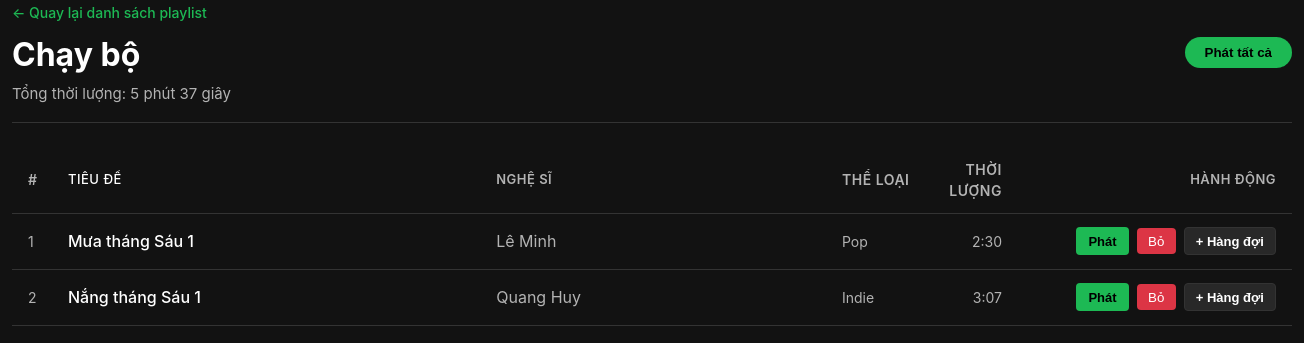
Test: PlaylistDetailPage component › bấm Bỏ để xóa bài hát ra khỏi playlist
Click the button "Bỏ" in the row of "2:30" at (1156, 241), box [1137,228,1176,254]
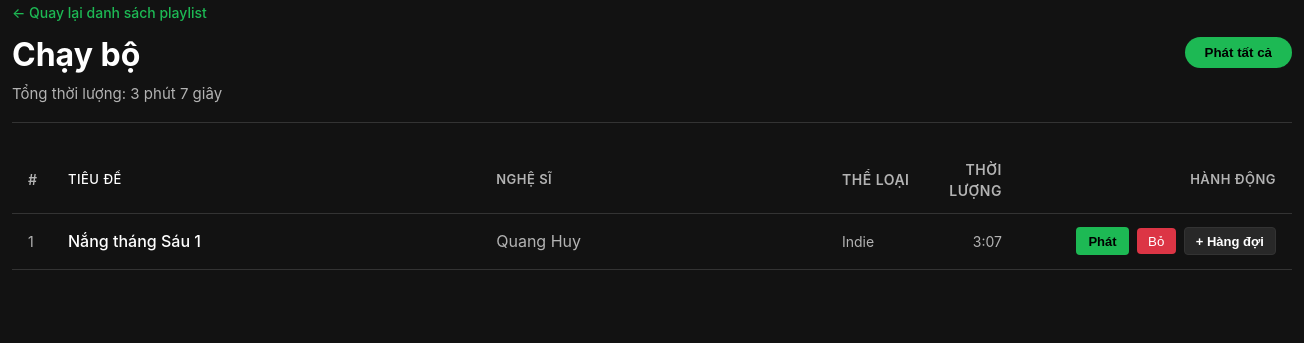
expect the text "Tổng thời lượng: 3 phút 7 giây" is shown: met, box [12,83,222,106]
